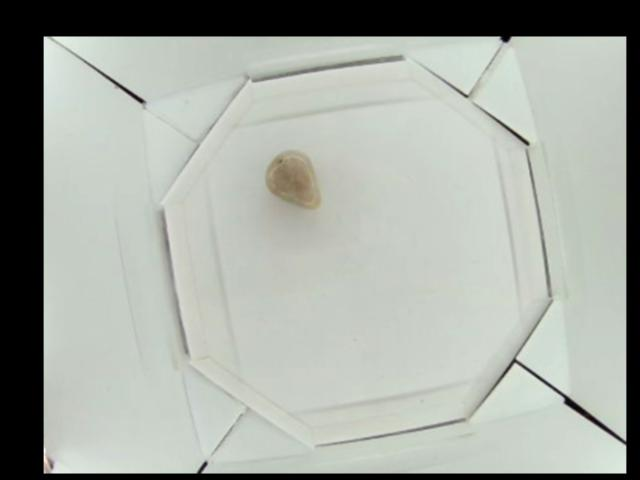Pebble: (262, 149, 321, 211)
